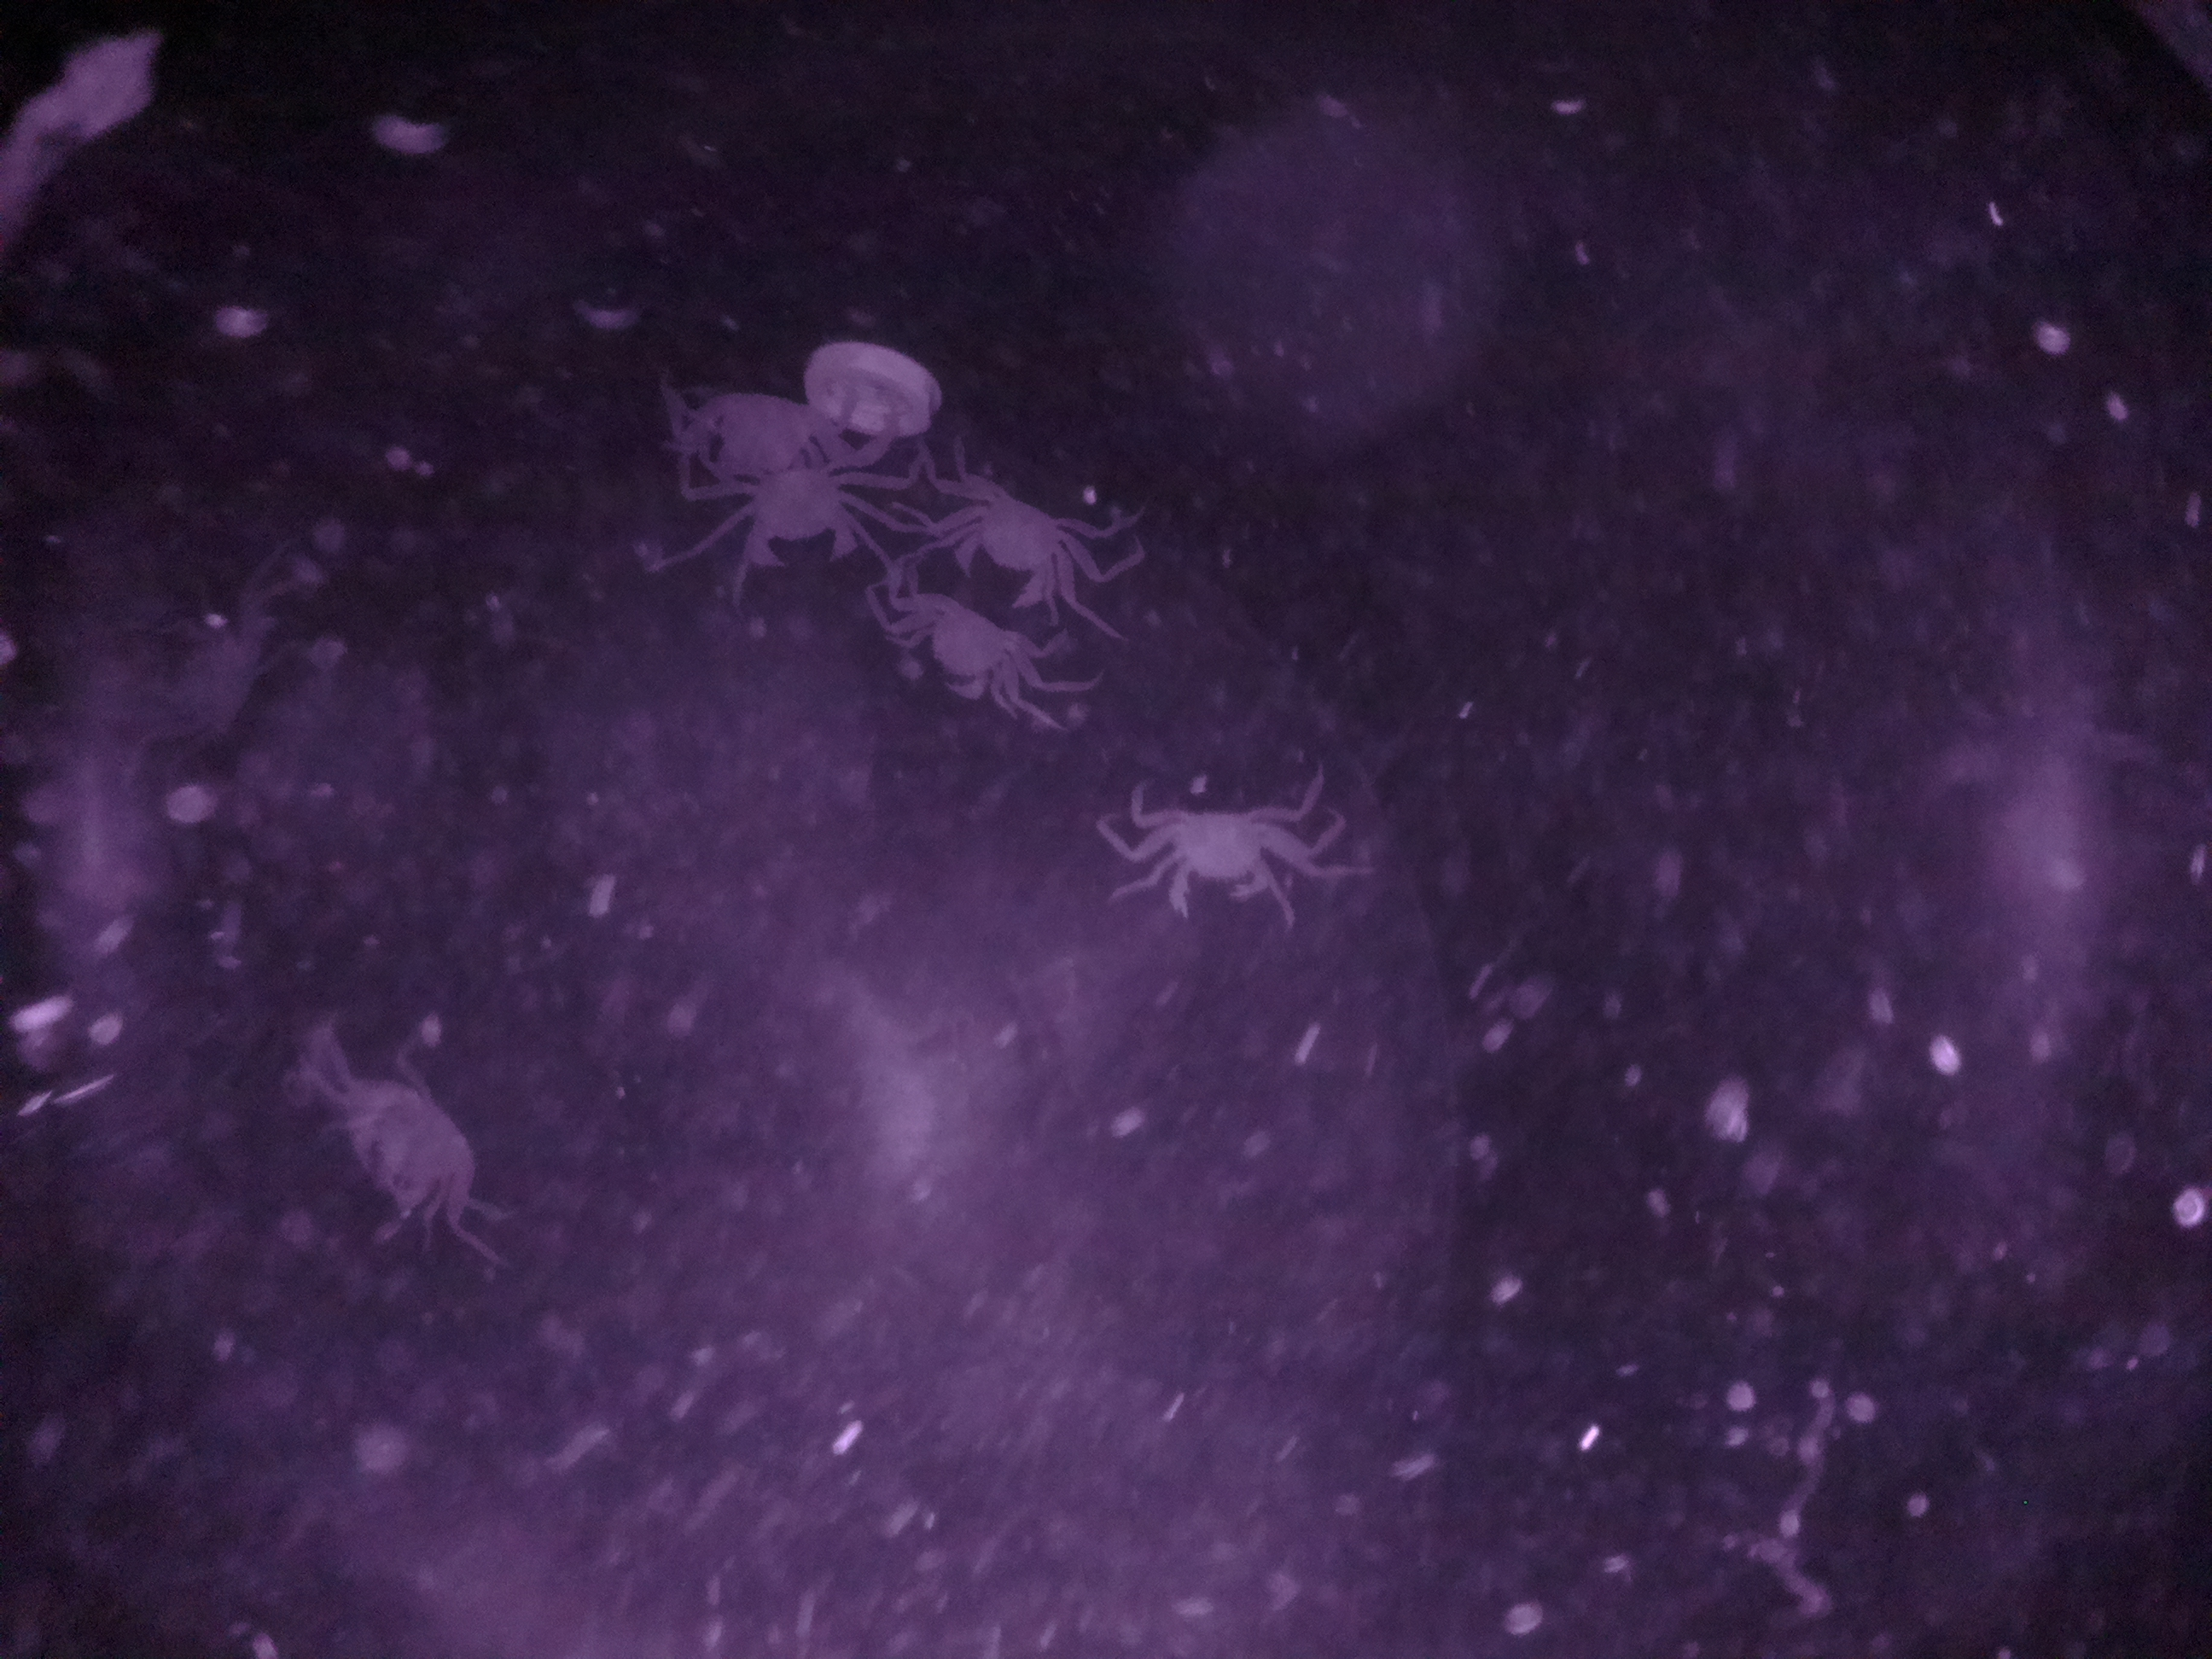Crab: (1101, 765, 1366, 932), (883, 575, 1094, 742), (941, 472, 1129, 596)
